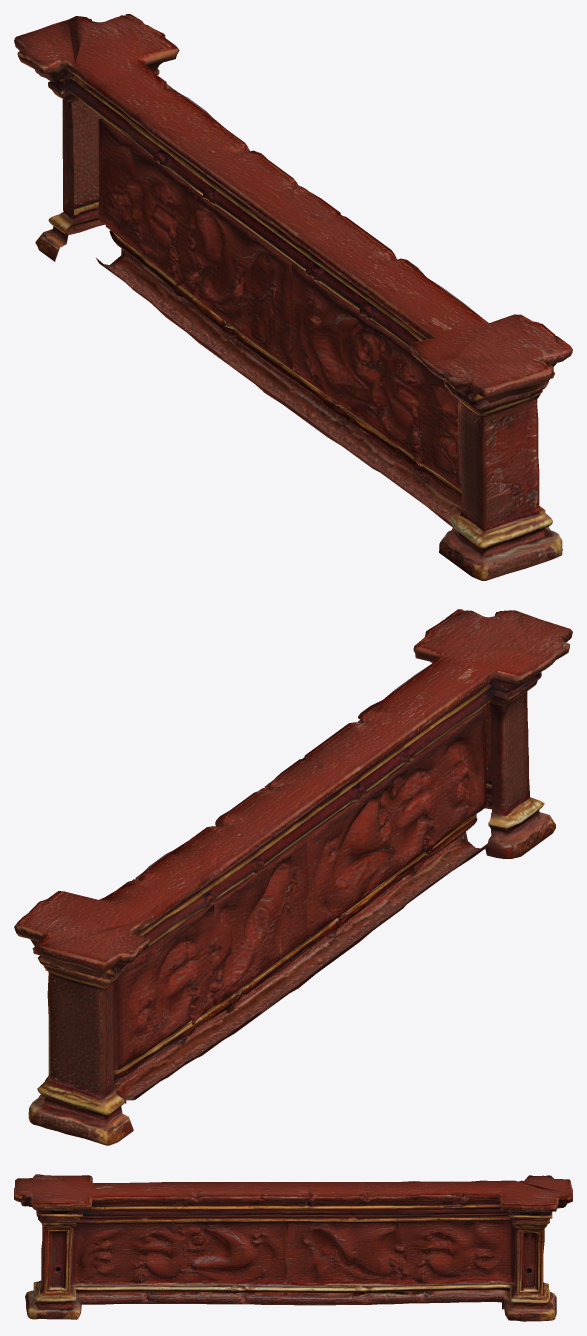
3 renders of one model, top to bottom at view 1: azimuth 30°, elevation 25°; view 2: azimuth 150°, elevation 25°; view 3: azimuth 270°, elevation 25°, orthographic. The views are drawn at different scales.
Parts seen in each view (by area): view 1: tripo_node_2086625f-8db1-444b-a488-94890d470181; view 2: tripo_node_2086625f-8db1-444b-a488-94890d470181; view 3: tripo_node_2086625f-8db1-444b-a488-94890d470181.
Boxes of the visible parts, x1,y1,x2,y2 form: tripo_node_2086625f-8db1-444b-a488-94890d470181: (14,14,572,580); tripo_node_2086625f-8db1-444b-a488-94890d470181: (14,609,572,1145); tripo_node_2086625f-8db1-444b-a488-94890d470181: (14,1174,572,1321).
Bounding box in the file's own units: 0.1582 × 0.2402 × 0.998.
Materials: 1 (1 with a texture image).
